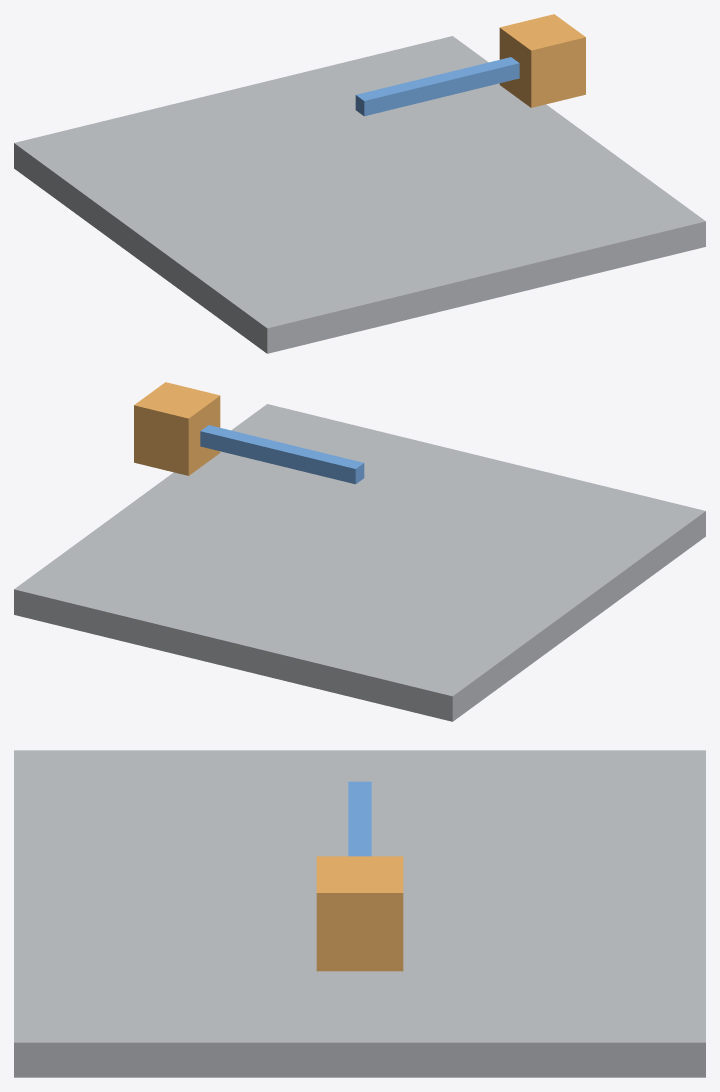
File: animated.glb
3 views of the same model, one above another, from view 1: azimuth 30°, elevation 25°; view 2: azimuth 150°, elevation 25°; view 3: azimuth 270°, elevation 25° (orthographic). The views are drawn at different scales.
Visible parts, largest first — view 1: Base, Cube, Arm; view 2: Base, Cube, Arm; view 3: Base, Cube, Arm.
Boxes of the visible parts, <box> form: Base: <box>14,36,705,353</box>; Cube: <box>499,14,585,107</box>; Arm: <box>355,57,519,116</box>; Base: <box>14,404,705,721</box>; Cube: <box>134,382,220,475</box>; Arm: <box>200,425,364,484</box>; Base: <box>14,750,705,1077</box>; Cube: <box>316,856,403,971</box>; Arm: <box>348,781,371,856</box>.
Size of the model in its own units: 3.6 by 1.03 by 3.6.
